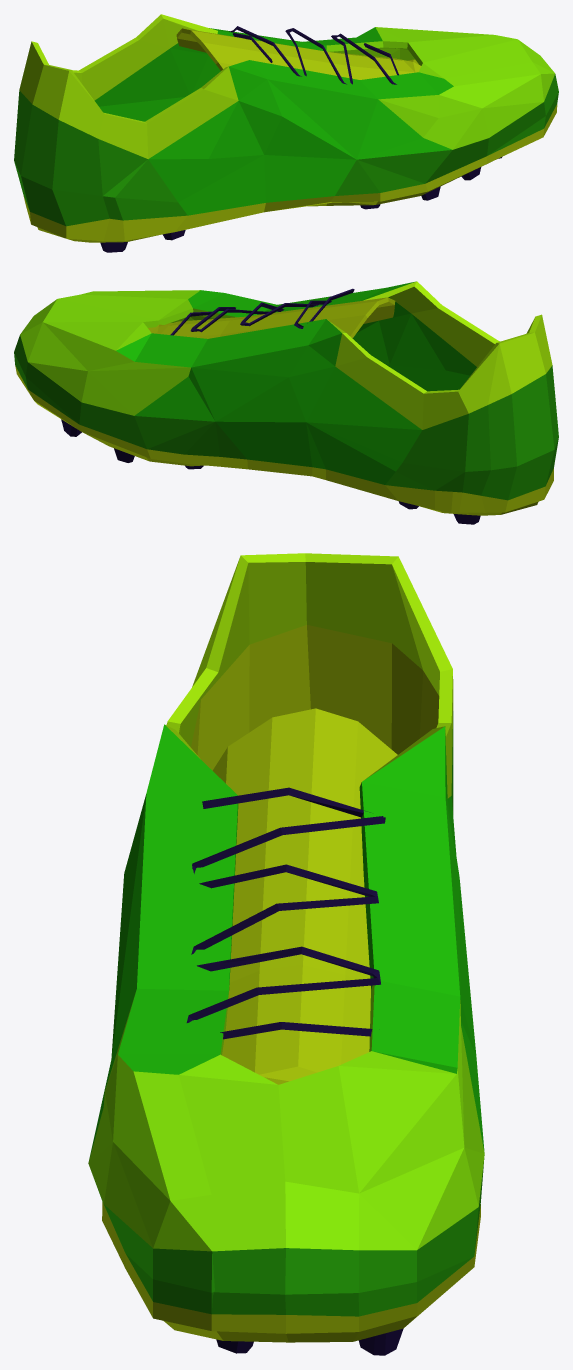
Rendered from Green.glb.
3 renders of one model, top to bottom at view 1: azimuth 30°, elevation 25°; view 2: azimuth 150°, elevation 25°; view 3: azimuth 270°, elevation 25°, orthographic. The views are drawn at different scales.
Visible parts, largest first — view 1: Green; view 2: Green; view 3: Green.
Boxes of the visible parts, left/top/right/bottom form: Green: left=14, top=14, right=558, bottom=252; Green: left=14, top=281, right=558, bottom=524; Green: left=88, top=553, right=484, bottom=1355.
Bounding box in the file's own units: 1.73 × 0.6357 × 0.5707.
